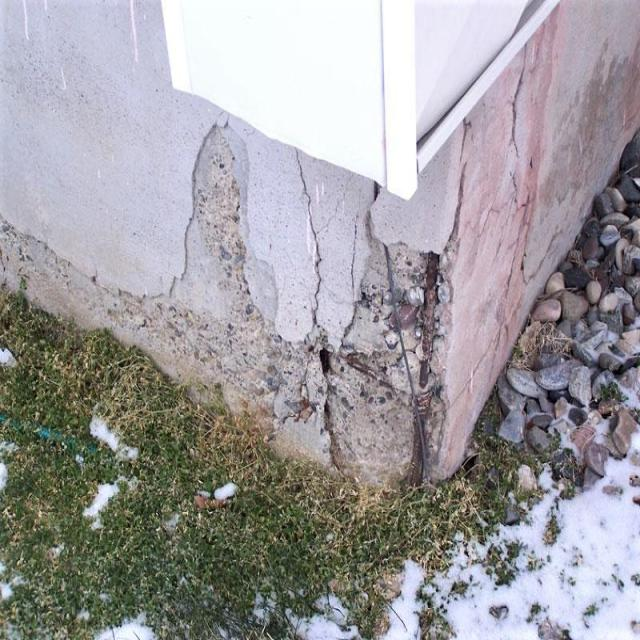Rebar: (325, 238, 453, 481)
concrete spalling: (0, 119, 325, 464)
diagonal crack: (315, 170, 351, 232)
vertical crack: (445, 41, 564, 408), (294, 145, 320, 326), (348, 208, 360, 300)
